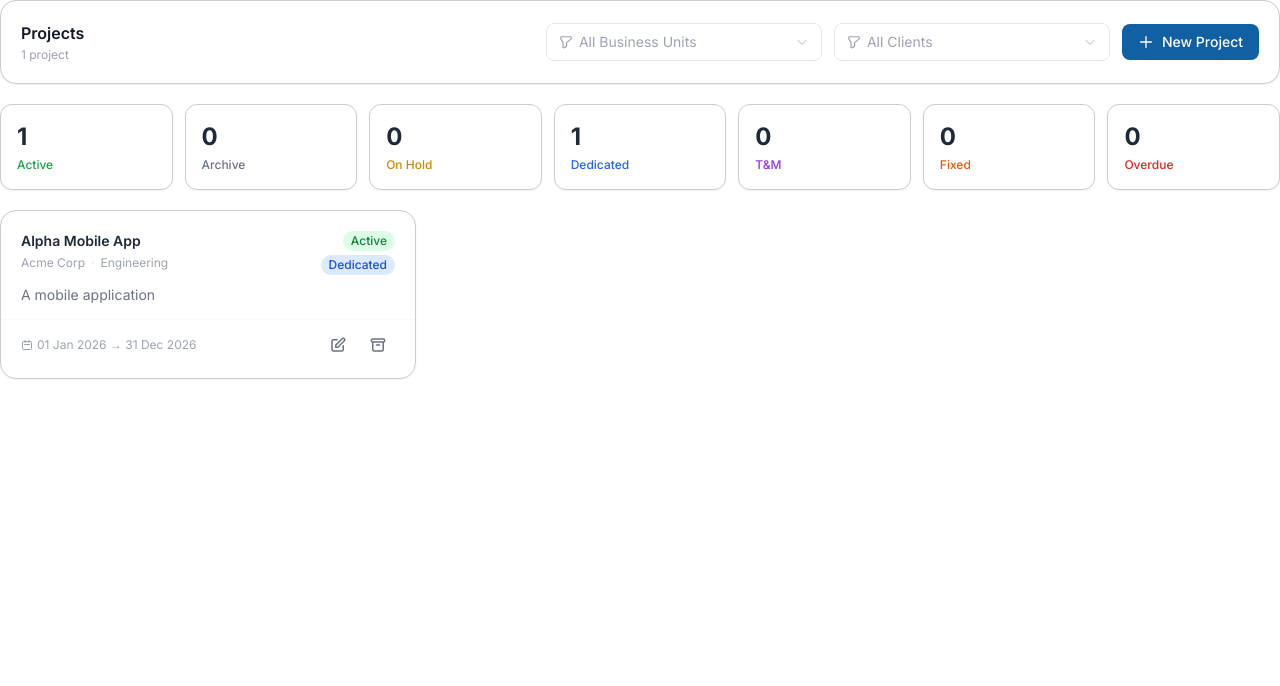
it: ProjectsPage_NewProjectButton_OpensModal
Expected: the heading "Alpha Mobile App" is shown, [21, 232, 141, 249]
Click the button "New Project": (1190, 42) [1122, 24, 1259, 60]
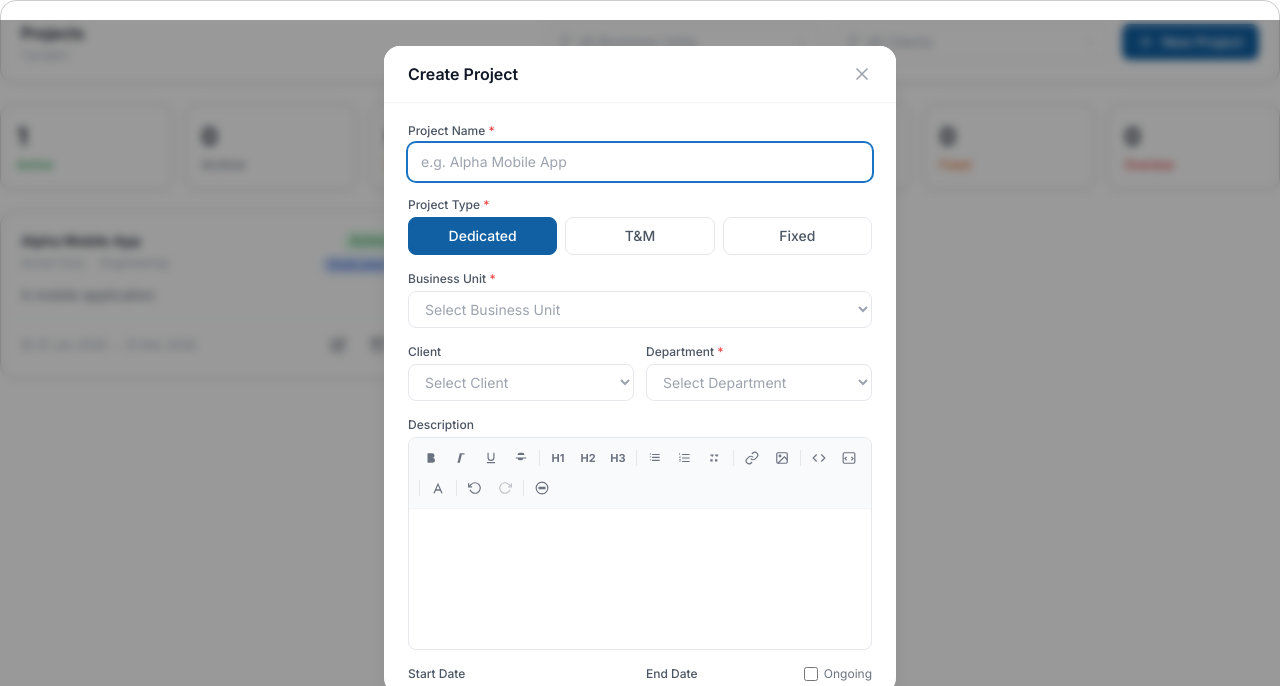
Expected: the heading "Create Project" is shown, [408, 62, 518, 86]
